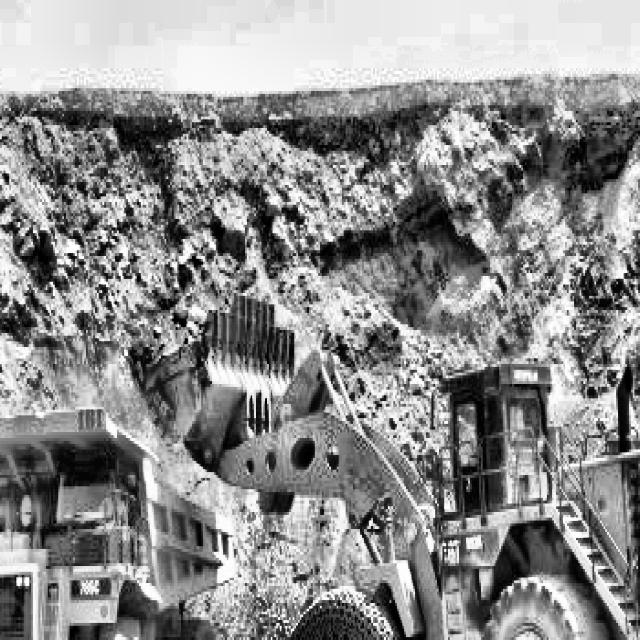buldozerpayloadergrader: (122, 281, 640, 640)
dump_truck: (0, 384, 234, 640)
